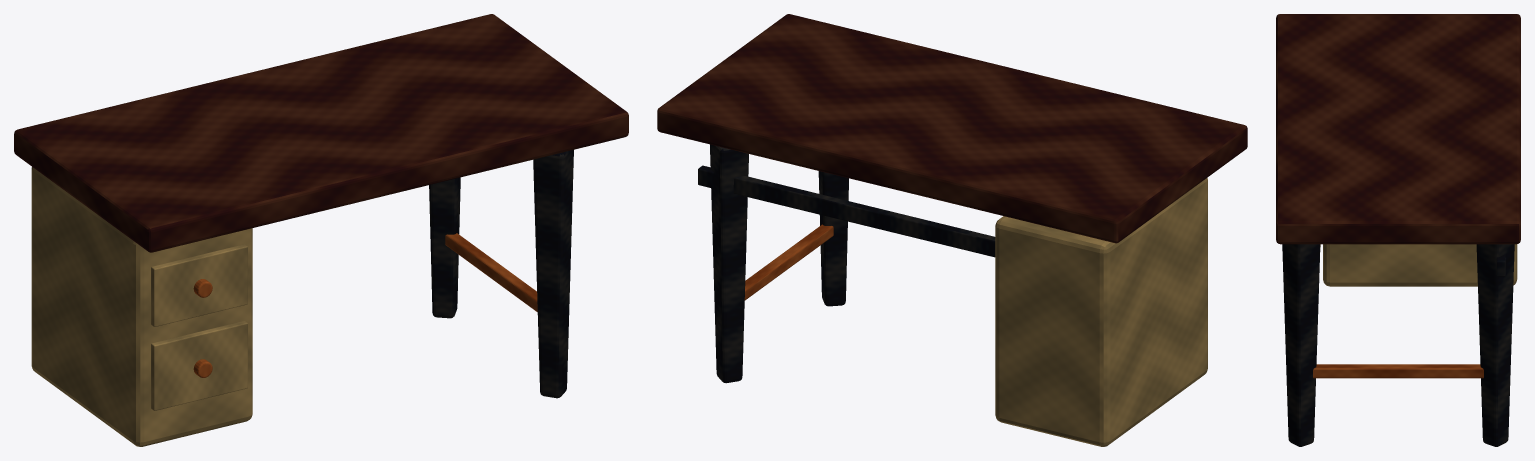
Rendered from writing-desk-pbr-v1.glb.
3 views of the same model, side by side, from view 1: azimuth 30°, elevation 25°; view 2: azimuth 150°, elevation 25°; view 3: azimuth 270°, elevation 25° (orthographic). The views are drawn at different scales.
Visible parts, largest first — view 1: writing-desk-walnut-top, writing-desk-pedestal, writing-desk-graphite-leg, writing-desk-drawer-bottom, writing-desk-drawer-top, writing-desk-graphite-leg.001, writing-desk-brass-stretcher; view 2: writing-desk-walnut-top, writing-desk-pedestal, writing-desk-graphite-leg.001, writing-desk-back-brace, writing-desk-graphite-leg, writing-desk-brass-stretcher; view 3: writing-desk-walnut-top, writing-desk-pedestal, writing-desk-graphite-leg, writing-desk-graphite-leg.001, writing-desk-brass-stretcher.
Boxes of the visible parts, box(x1,y1,x2,y2) form: writing-desk-walnut-top: box(14, 14, 628, 252); writing-desk-pedestal: box(31, 167, 252, 446); writing-desk-graphite-leg: box(533, 150, 573, 398); writing-desk-drawer-bottom: box(151, 321, 247, 410); writing-desk-drawer-top: box(151, 244, 247, 326); writing-desk-graphite-leg.001: box(429, 177, 460, 318); writing-desk-brass-stretcher: box(445, 233, 537, 311); writing-desk-walnut-top: box(657, 14, 1247, 243); writing-desk-pedestal: box(995, 178, 1207, 446); writing-desk-graphite-leg.001: box(710, 144, 748, 383); writing-desk-back-brace: box(698, 165, 995, 257); writing-desk-graphite-leg: box(818, 171, 848, 306); writing-desk-brass-stretcher: box(744, 224, 833, 300); writing-desk-walnut-top: box(1276, 14, 1520, 244); writing-desk-pedestal: box(1323, 244, 1517, 286); writing-desk-graphite-leg: box(1282, 244, 1320, 446); writing-desk-graphite-leg.001: box(1476, 244, 1514, 446); writing-desk-brass-stretcher: box(1313, 364, 1483, 378).
Bounding box in the file's own units: 1.38 × 0.76 × 0.68.
4 materials, 4 textured.
